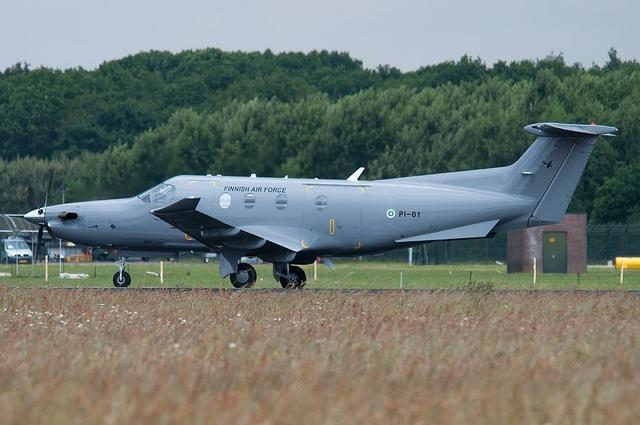car: (0, 239, 33, 264)
